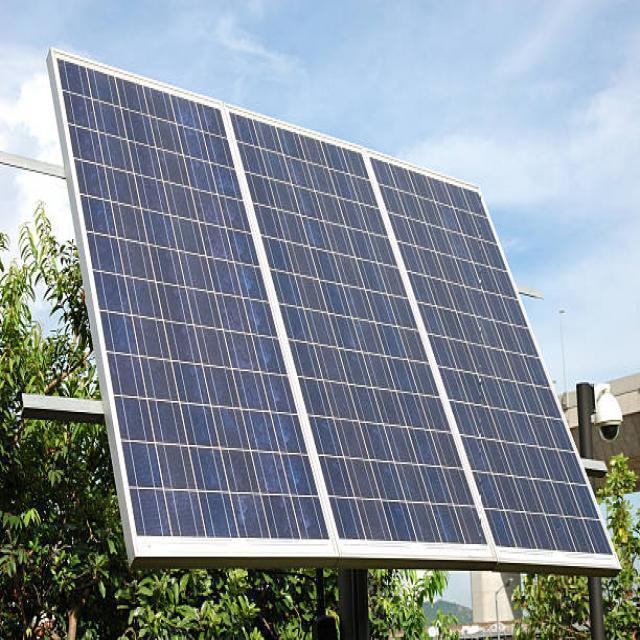Normal Solar Panel: (51, 55, 333, 560), (234, 108, 494, 558), (373, 153, 618, 568)
